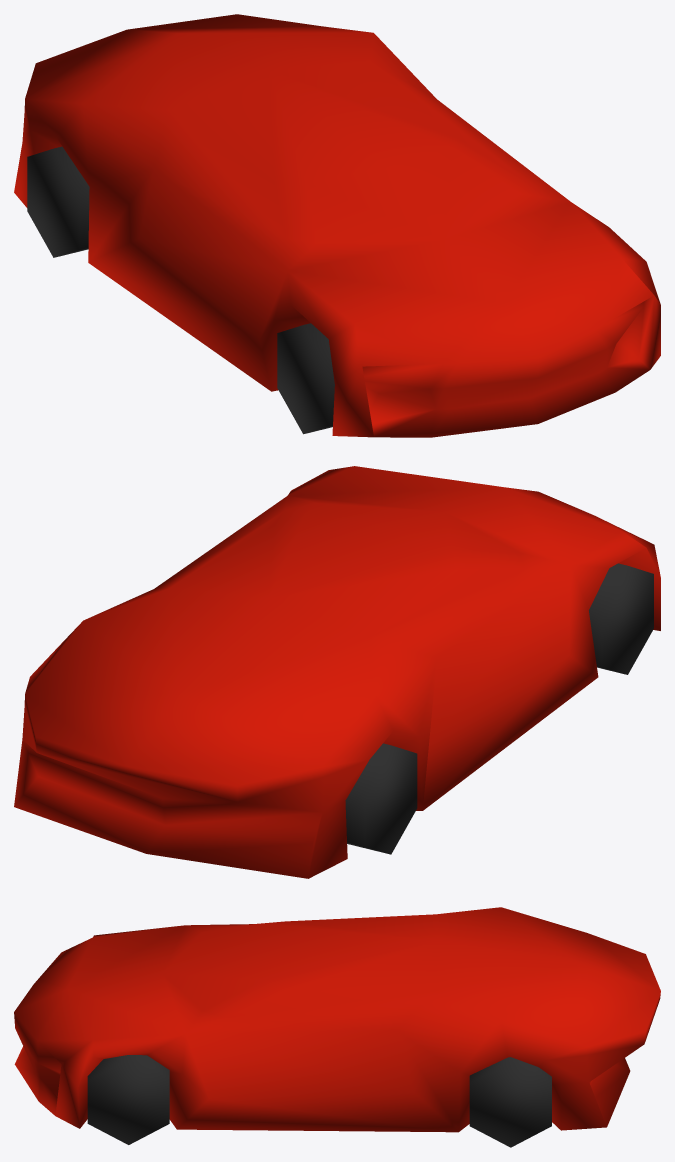
The model's file is Car Low.fbx.
3 views of the same model, one above another, from view 1: azimuth 30°, elevation 25°; view 2: azimuth 150°, elevation 25°; view 3: azimuth 270°, elevation 25° (orthographic). The views are drawn at different scales.
Parts seen in each view (by area): view 1: body6_L2, wheel_BR_L2, wheel_FR_L2; view 2: body6_L2, wheel_BR_L2, wheel_FR_L2; view 3: body6_L2, wheel_FL_L2, wheel_BL_L2.
Part boxes in pixels (<box>): body6_L2: <box>14,14,660,437</box>; wheel_BR_L2: <box>27,146,89,257</box>; wheel_FR_L2: <box>277,323,334,434</box>; body6_L2: <box>14,466,660,878</box>; wheel_BR_L2: <box>345,743,417,854</box>; wheel_FR_L2: <box>589,563,653,674</box>; body6_L2: <box>14,907,660,1132</box>; wheel_FL_L2: <box>87,1055,169,1144</box>; wheel_BL_L2: <box>469,1057,551,1147</box>.
Size of the model in its own units: 2.09 by 1.06 by 4.38.
